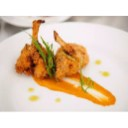chicken_lollipop: (19, 18, 49, 80), (52, 29, 91, 74)
